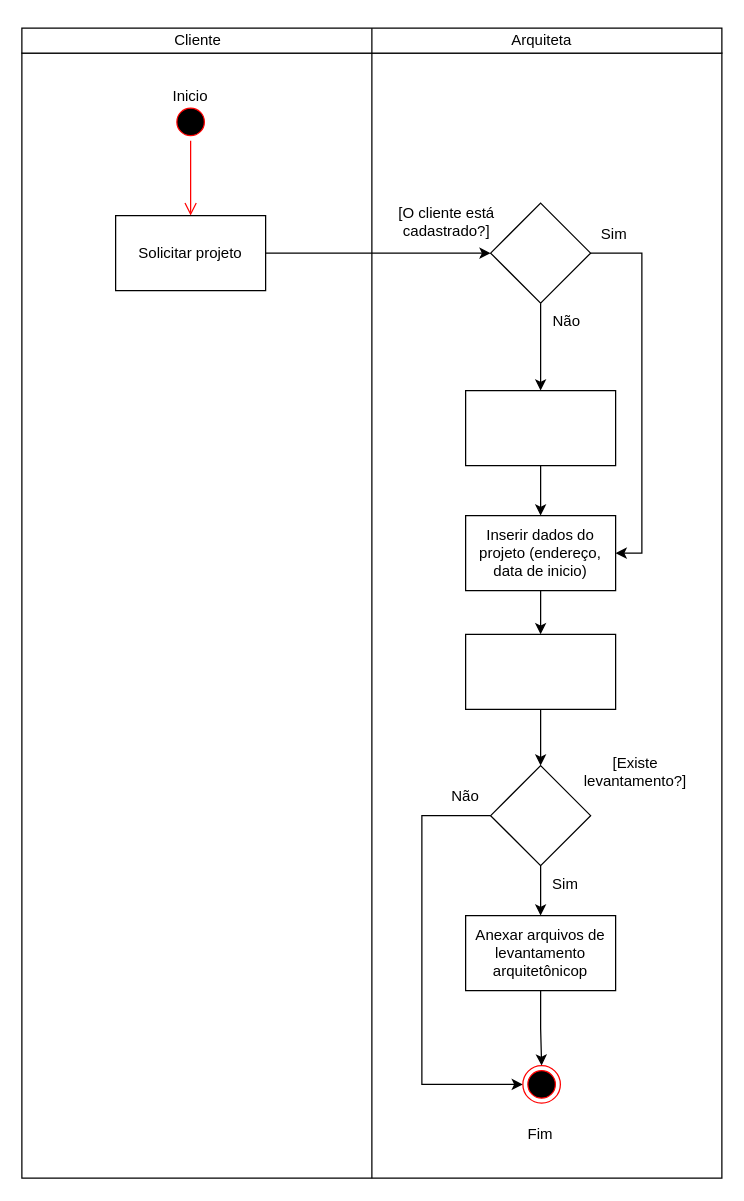
The diagram is 744 pixels wide and 1201 high, and some of its shapes have lost their labels. Each missing label, with the centre of its shape:
"Cadastrar Cliente (nome, informações de contado)" belongs at (540,427).
"Definir etapas que serão executadas" belongs at (540,671).
